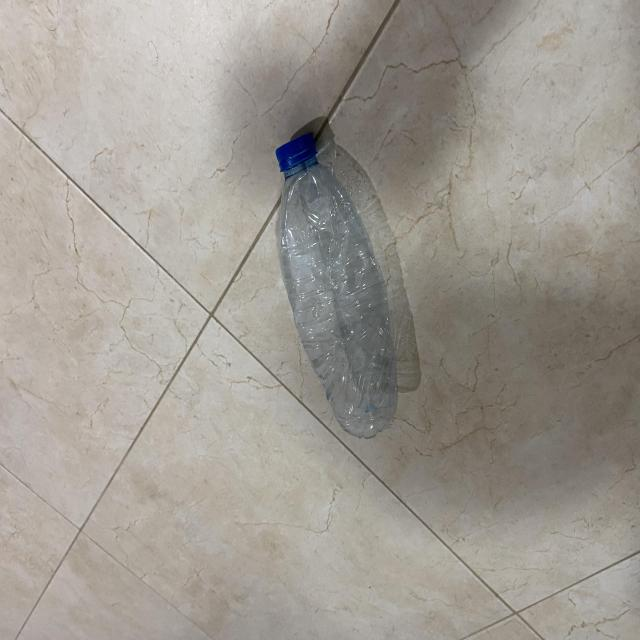plastic: (271, 127, 401, 439)
